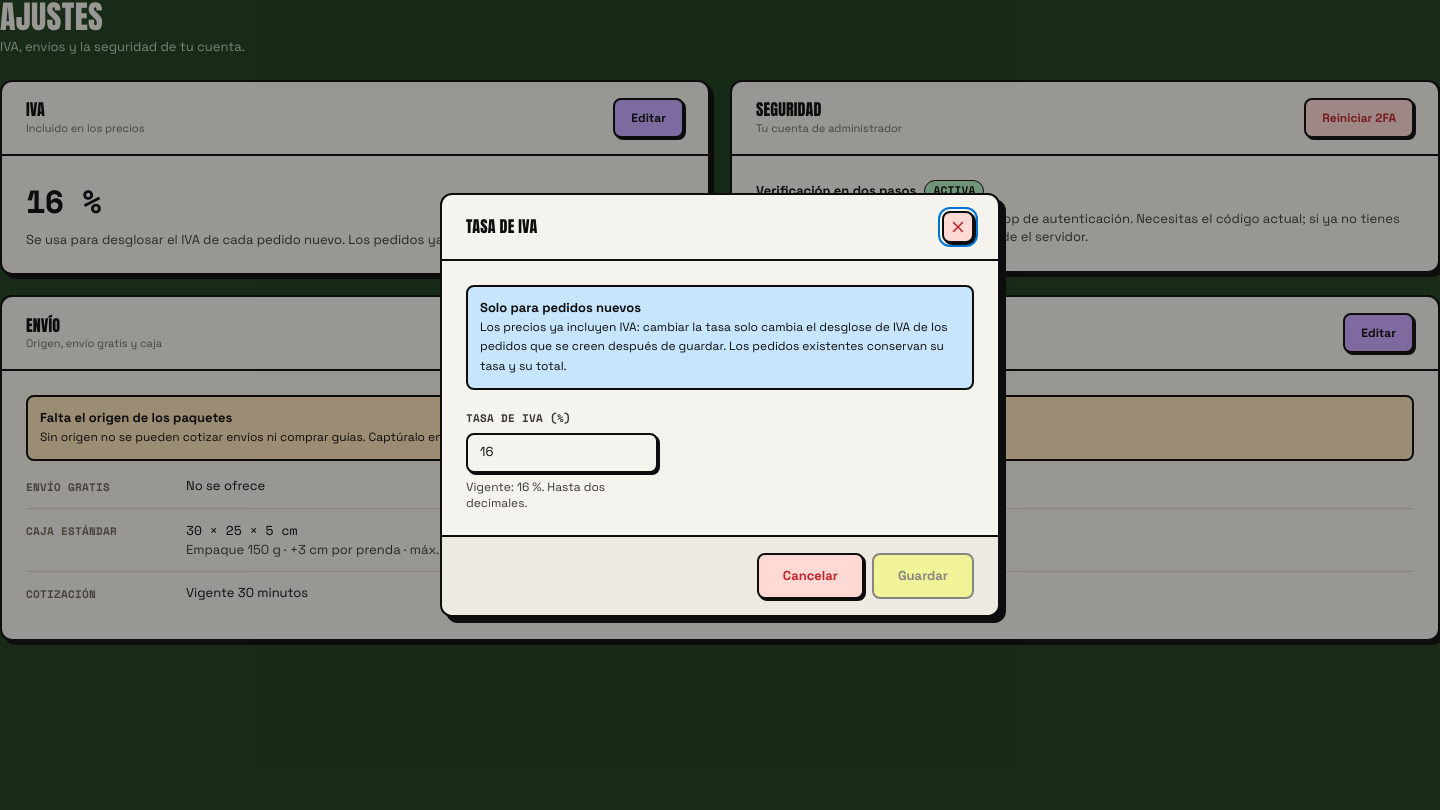
SettingsPage › cerrar con cambios sin guardar pregunta antes de descartar
This screenshot has width=1440, height=810.
Type "5" into the field labelled "Tasa de IVA (%)" at (562, 452), box [480,443,644,462]
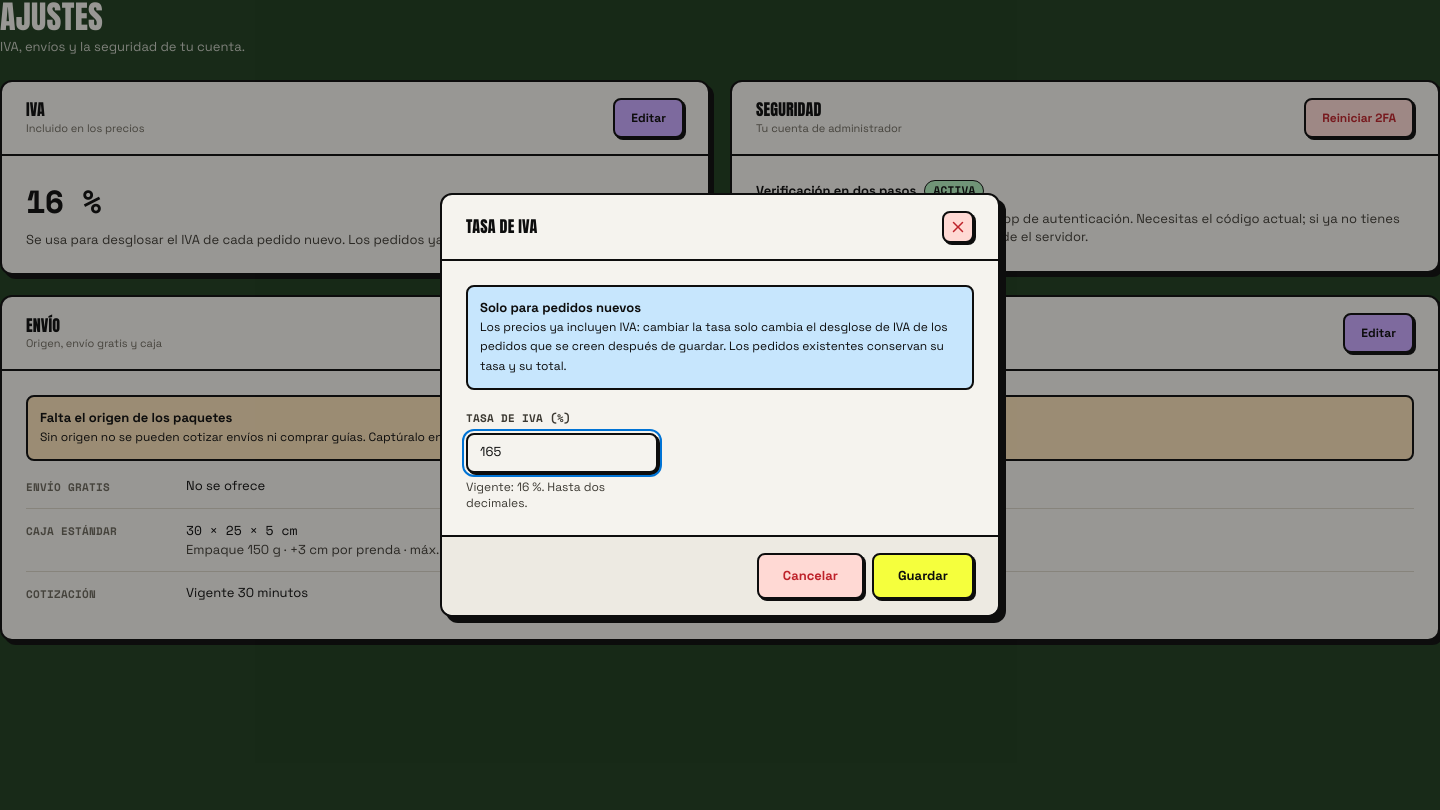
Click the button "Cancelar" at (810, 576), box [757,552,864,599]
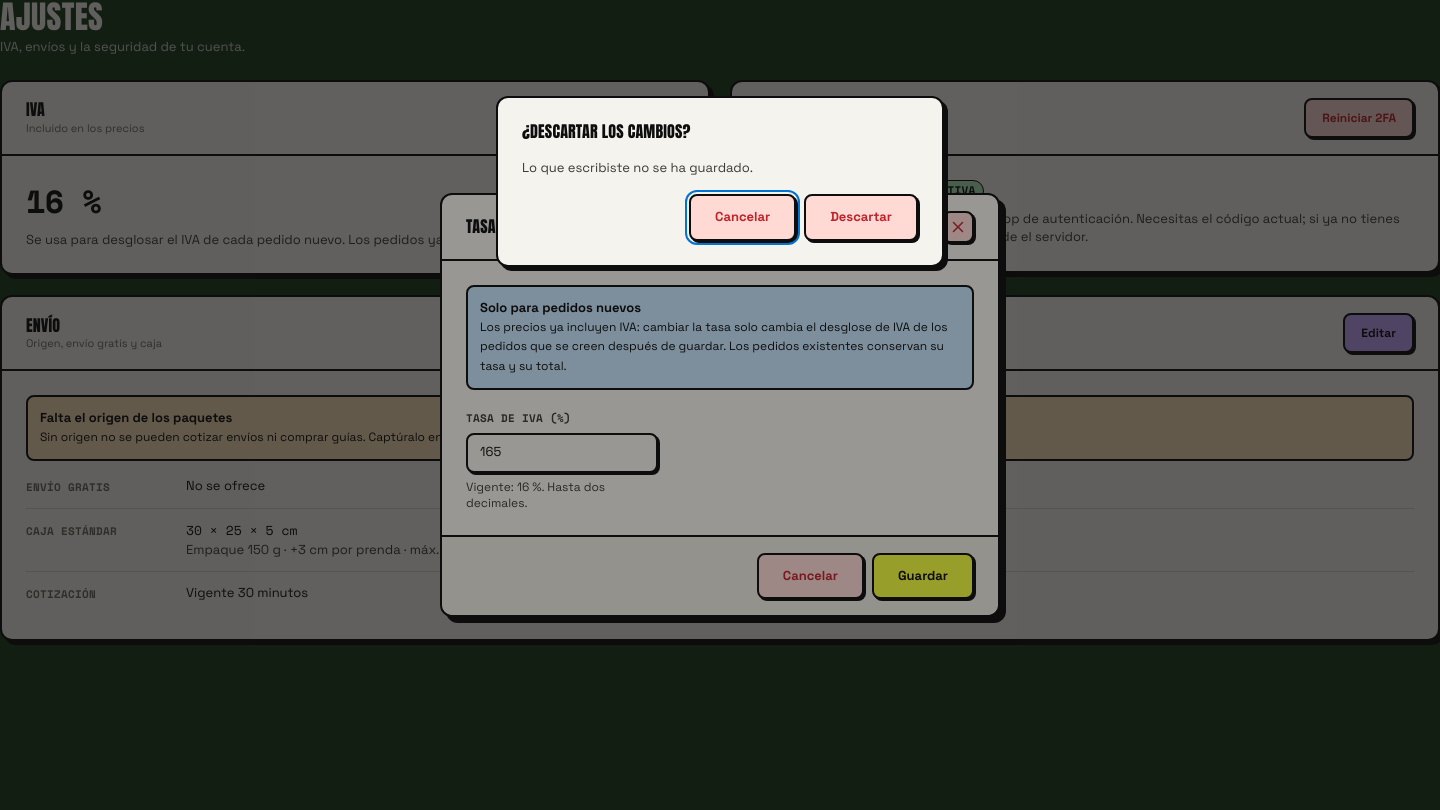
Expected: the heading "¿Descartar los cambios?" is shown, [522,119,691,143]
